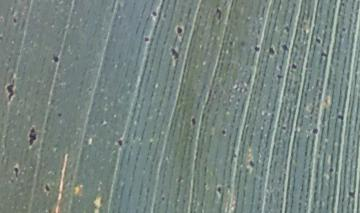tarspot: (3, 79, 18, 106), (25, 125, 40, 150), (212, 5, 225, 23), (173, 22, 187, 38), (168, 46, 182, 61), (278, 40, 293, 54), (287, 60, 301, 73), (332, 110, 347, 122), (316, 48, 331, 60), (347, 186, 358, 202), (49, 52, 62, 65), (264, 44, 276, 58), (308, 125, 322, 137), (11, 164, 22, 179), (114, 135, 125, 149), (250, 43, 263, 54), (274, 72, 287, 83), (188, 114, 197, 129), (41, 183, 53, 194), (218, 126, 229, 138), (313, 34, 324, 46), (278, 123, 290, 134), (226, 37, 236, 50), (338, 23, 349, 34), (327, 164, 337, 176), (282, 22, 292, 34), (275, 62, 285, 73), (142, 33, 151, 45), (149, 7, 158, 19), (247, 156, 256, 168), (214, 185, 224, 195), (55, 110, 64, 119), (11, 16, 19, 26)
